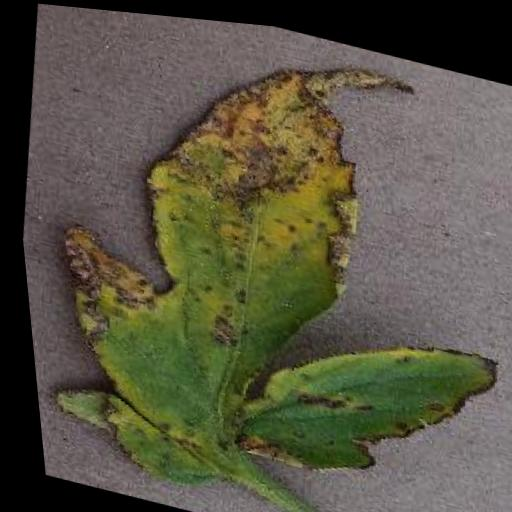Bacterial Spot: (5, 0, 512, 512)
